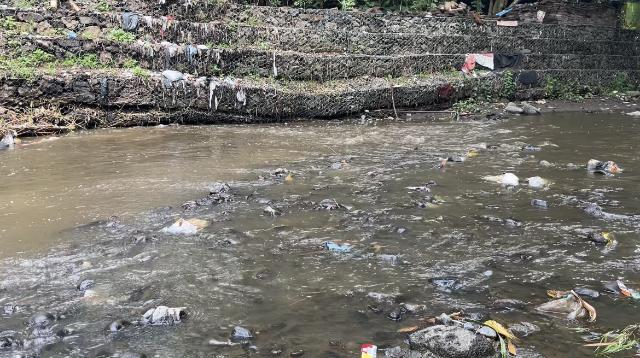Sampah Anorganik: (537, 284, 595, 329), (588, 157, 625, 176), (170, 218, 205, 235), (616, 280, 640, 301), (482, 173, 518, 186), (525, 175, 549, 190), (322, 240, 350, 252), (361, 344, 377, 358), (464, 152, 475, 158)
Sampah Organik: (406, 311, 519, 358), (590, 325, 640, 358), (366, 242, 394, 262), (182, 200, 194, 206), (341, 160, 348, 167), (286, 173, 292, 180), (442, 161, 445, 166)
